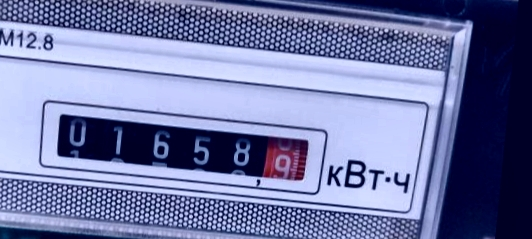0: (66, 116, 89, 148)
1: (108, 123, 128, 157)
5: (190, 133, 213, 166)
6: (150, 126, 173, 161)
8: (231, 134, 254, 168)
9: (269, 152, 293, 182)
screen: (27, 91, 333, 203)
